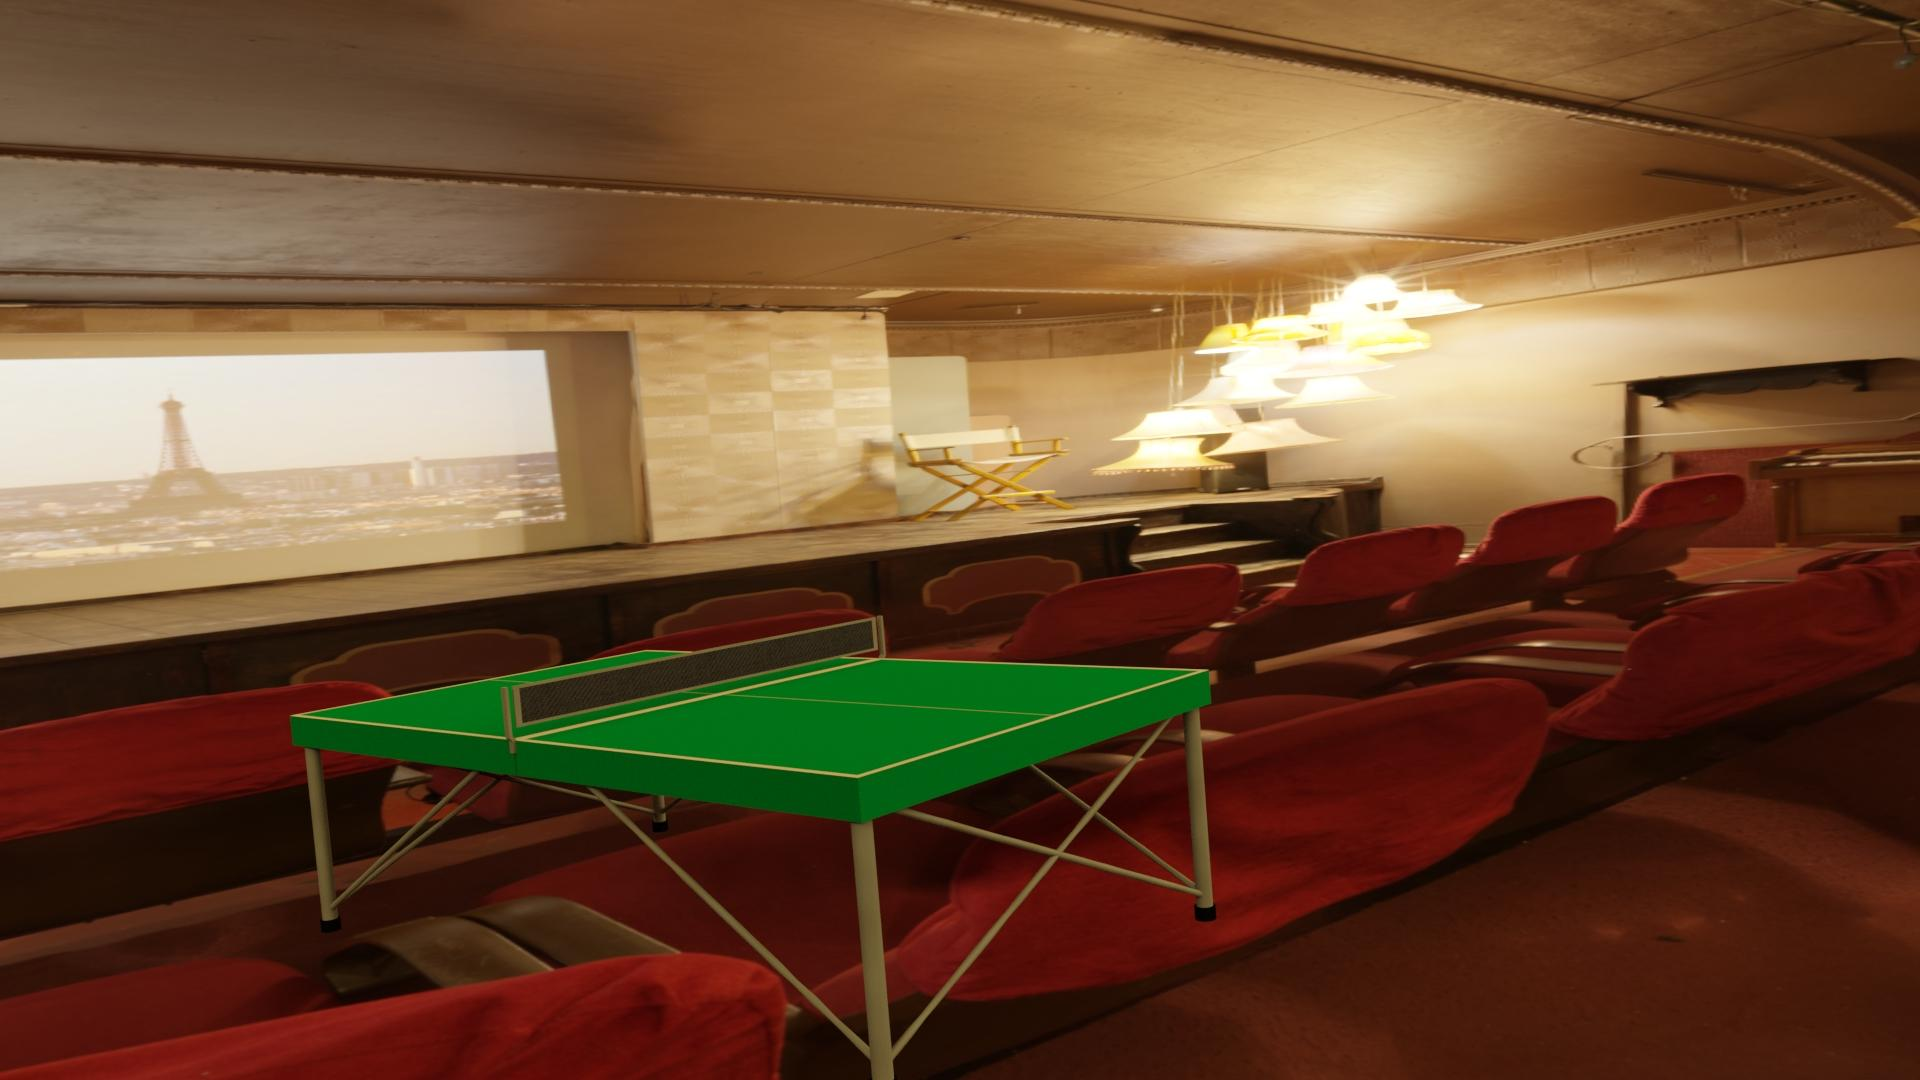table: (298, 651, 1200, 775)
